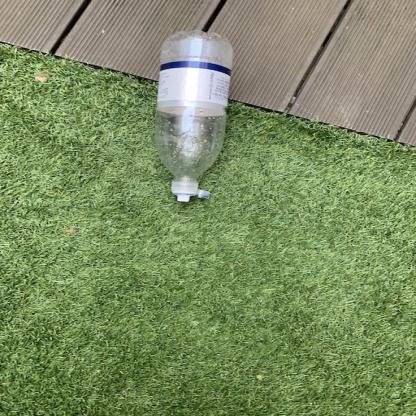trash: (151, 29, 238, 205)
